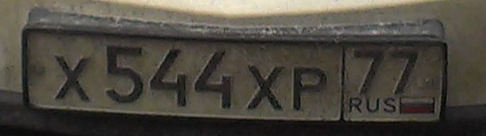character: (189, 41, 236, 113), (147, 42, 190, 111), (102, 42, 147, 107), (285, 61, 329, 119), (51, 51, 96, 106), (243, 59, 286, 115), (385, 45, 423, 98), (351, 46, 385, 96)
